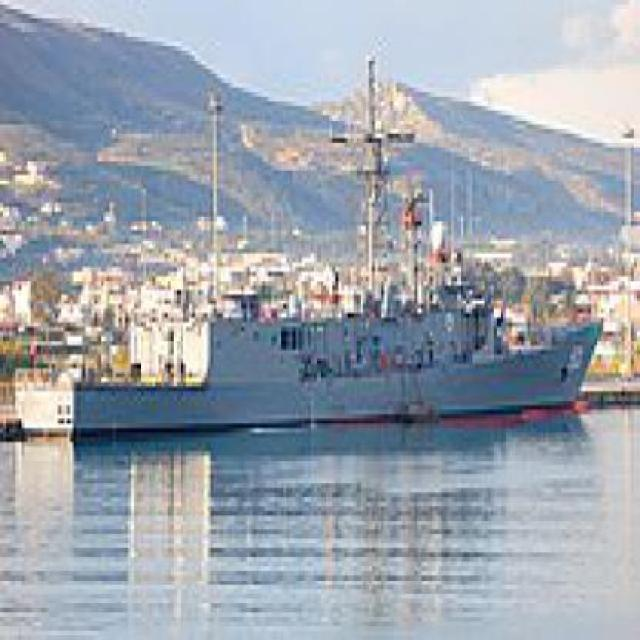warship2: (11, 107, 617, 453)
